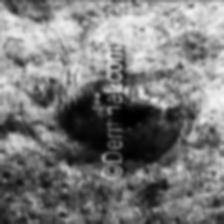Potentially Malignant Skin Tumors: (124, 95, 154, 133)
